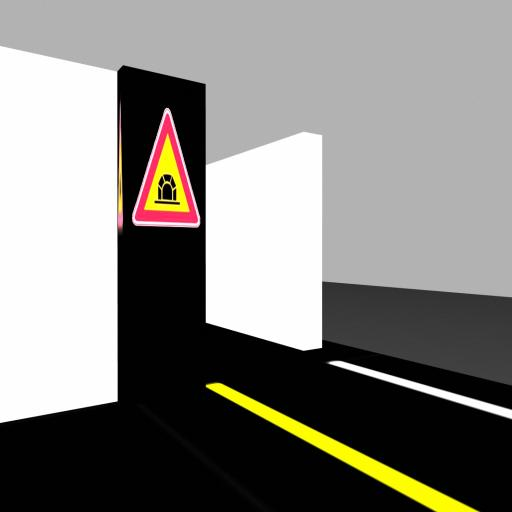Tunnel: (132, 109, 200, 227)
